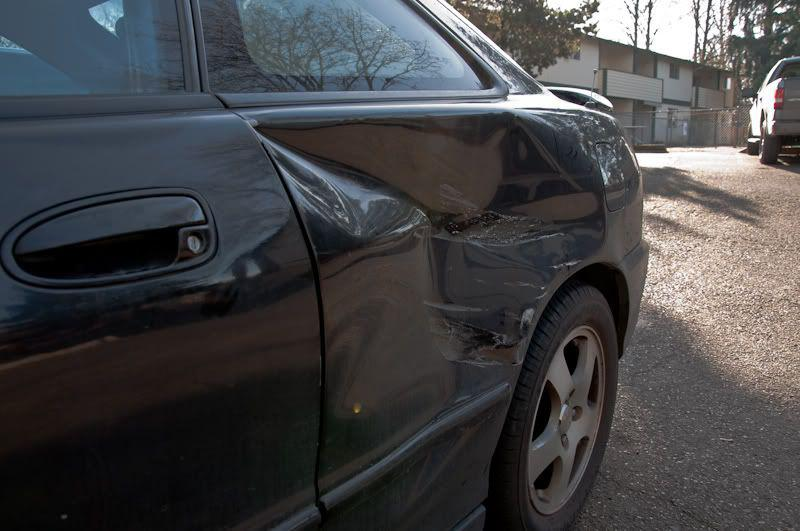quaterpanel-dent: (309, 114, 644, 379)
